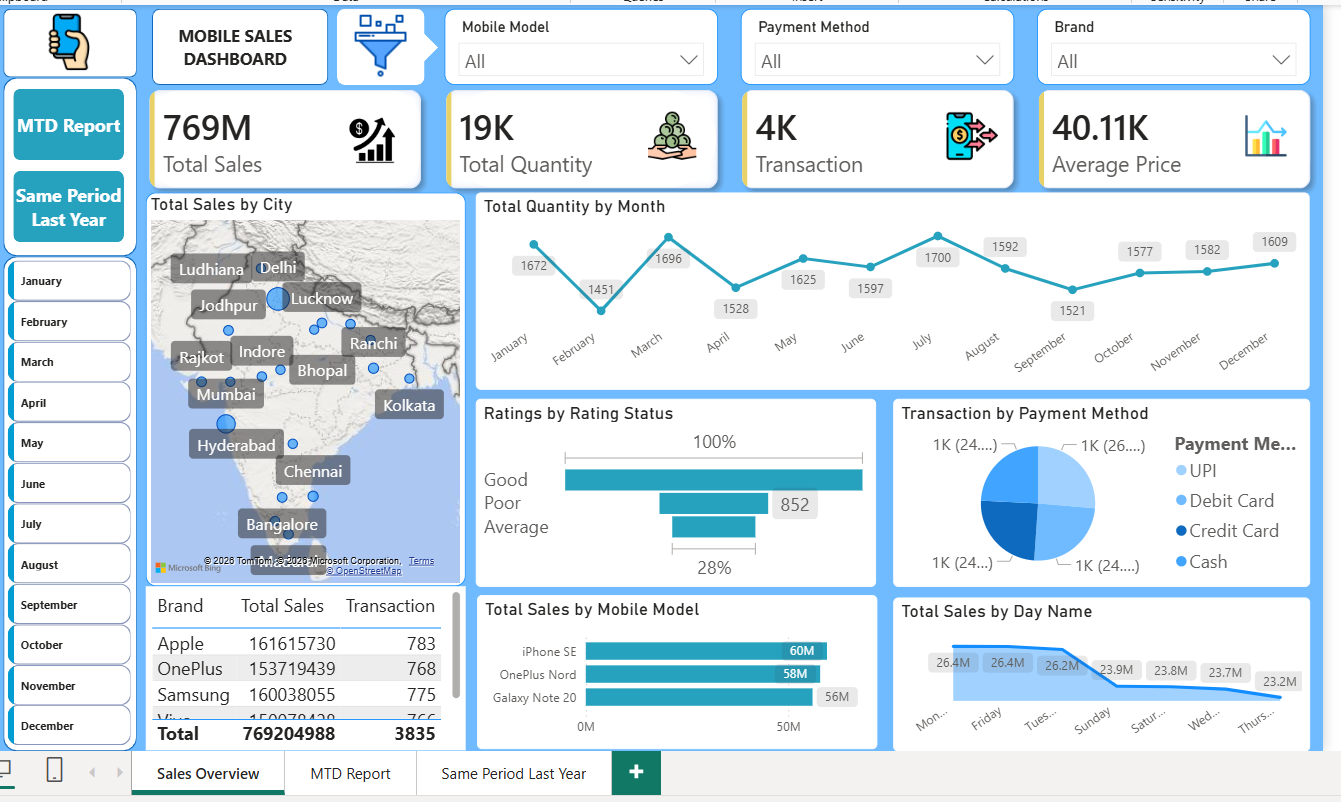

The dashboard page shown, as its layout file describes it:
{"tool":"powerbi","page":{"name":"Sales Overview","canvas":[1280,720],"ordinal":0},"visuals":[{"type":"shape","box":[361.9,19.3,63.9,43.4],"z":0},{"type":"shape","box":[6,3.6,129.1,66.4],"z":1000},{"type":"image","box":[39.8,8.4,62.7,54.3],"z":2000},{"type":"shape","box":[6,70,129.1,172.5],"z":3000},{"type":"shape","box":[6,242.5,129.1,477.8],"z":4000},{"type":"advancedSlicerVisual","fields":{"Values":["Custom Calendar.Date.Variation.Date Hierarchy.Month"]},"box":[0,242.5,137.5,476.5],"z":5000},{"type":"cardVisual","fields":{"Data":["Mobile Sales Data.Total Sales","Mobile Sales Data.Total Quantity","Mobile Sales Data.Transaction","Mobile Sales Data.Average Price"]},"box":[135.1,70,1144.9,119.4],"z":6000},{"type":"image","box":[328.2,108.6,68,44],"z":7000},{"type":"image","box":[906,101.3,70,50],"z":8000},{"type":"image","box":[621.3,101.3,60.3,49.5],"z":9000},{"type":"image","box":[1189.6,106.2,70,39.8],"z":10000},{"type":"slicer","fields":{"Values":["Mobile Sales Data.Mobile Model"]},"box":[431.9,3.6,264.2,73.6],"z":11000},{"type":"slicer","fields":{"Values":["Mobile Sales Data.Payment Method"]},"box":[717.5,3.8,264,73.8],"z":12000},{"type":"slicer","fields":{"Values":["Mobile Sales Data.Brand"]},"box":[1003.8,3.8,264,73.8],"z":13000},{"type":"shape","box":[328.2,3.6,84.5,73.6],"z":14000},{"type":"image","box":[335.4,8.4,70,61.5],"z":15000},{"type":"shape","box":[149.6,3.6,170.1,73.6],"z":16000},{"type":"textbox","box":[161.7,12.1,136.3,65.1],"z":17000},{"type":"map","fields":{"Category":["Mobile Sales Data.City"],"Size":["Mobile Sales Data.Total Sales"]},"box":[143.8,181.2,308.8,380],"z":18000},{"type":"lineChart","fields":{"Category":["Custom Calendar.Date.Variation.Date Hierarchy.Month"],"Y":["Mobile Sales Data.Total Quantity"]},"box":[462.5,181.2,805,190],"z":19000},{"type":"funnel","title":"Ratings by Rating Status","fields":{"Y":["CountNonNull(Mobile Sales Data.Customer Ratings)"],"Category":["Mobile Sales Data.Rating Status"]},"box":[462.5,380,386.2,181.2],"z":20000},{"type":"pieChart","fields":{"Category":["Mobile Sales Data.Payment Method"],"Y":["Mobile Sales Data.Transaction"]},"box":[865,380,402.5,181.2],"z":21000},{"type":"clusteredBarChart","fields":{"Y":["Mobile Sales Data.Total Sales"],"Category":["Mobile Sales Data.Mobile Model"]},"box":[463.8,570,386.2,148.8],"z":22000},{"type":"areaChart","fields":{"Y":["Mobile Sales Data.Total Sales"],"Category":["Custom Calendar.Day Name"]},"box":[865,571.2,402.5,148.8],"z":23000},{"type":"tableEx","fields":{"Values":["Mobile Sales Data.Brand","Mobile Sales Data.Total Sales","Mobile Sales Data.Transaction"]},"box":[144,561,309,158],"z":24000},{"type":"pageNavigator","box":[15.7,80.8,107.4,149.6],"z":25000}]}

Visuals, with their boxes on the page's 1280x720 design canvas (x1, y1, x2, y2). These are canvas units, not pixel positions in the 1341x802 screenshot, which may show the page scaled, cropped or inside an application window:
shape: <box>362,19,426,63</box>
shape: <box>6,4,135,70</box>
image: <box>40,8,102,63</box>
shape: <box>6,70,135,242</box>
shape: <box>6,242,135,720</box>
advancedSlicerVisual - Custom Calendar.Date.Variation.Date Hierarchy.Month: <box>0,242,138,719</box>
cardVisual - Mobile Sales Data.Total Sales x Mobile Sales Data.Total Quantity: <box>135,70,1280,189</box>
image: <box>328,109,396,153</box>
image: <box>906,101,976,151</box>
image: <box>621,101,682,151</box>
image: <box>1190,106,1260,146</box>
slicer - Mobile Sales Data.Mobile Model: <box>432,4,696,77</box>
slicer - Mobile Sales Data.Payment Method: <box>718,4,982,78</box>
slicer - Mobile Sales Data.Brand: <box>1004,4,1268,78</box>
shape: <box>328,4,413,77</box>
image: <box>335,8,405,70</box>
shape: <box>150,4,320,77</box>
textbox: <box>162,12,298,77</box>
map - Mobile Sales Data.City x Mobile Sales Data.Total Sales: <box>144,181,453,561</box>
lineChart - Custom Calendar.Date.Variation.Date Hierarchy.Month x Mobile Sales Data.Total Quantity: <box>462,181,1268,371</box>
"Ratings by Rating Status" funnel: <box>462,380,849,561</box>
pieChart - Mobile Sales Data.Payment Method x Mobile Sales Data.Transaction: <box>865,380,1268,561</box>
clusteredBarChart - Mobile Sales Data.Total Sales x Mobile Sales Data.Mobile Model: <box>464,570,850,719</box>
areaChart - Mobile Sales Data.Total Sales x Custom Calendar.Day Name: <box>865,571,1268,720</box>
tableEx - Mobile Sales Data.Brand x Mobile Sales Data.Total Sales: <box>144,561,453,719</box>
pageNavigator: <box>16,81,123,230</box>
